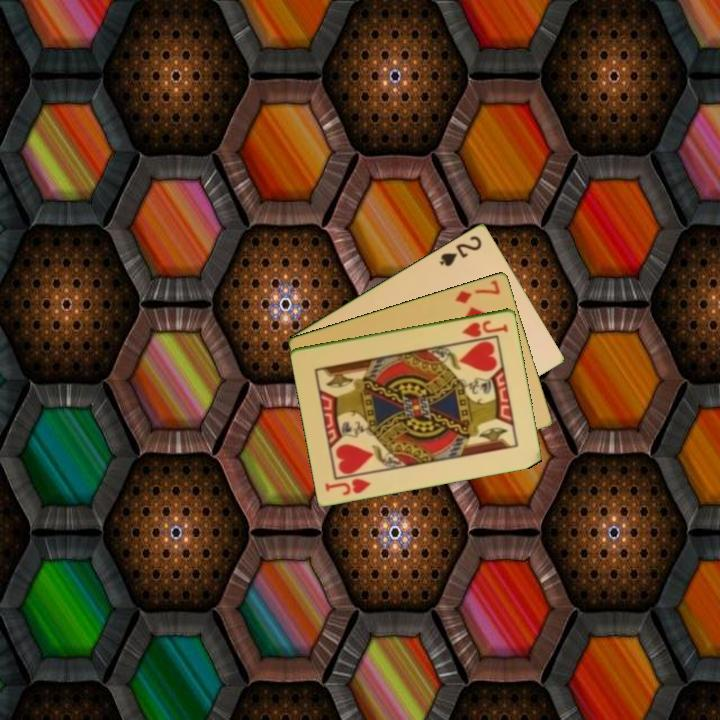2s: (436, 231, 485, 269)
7d: (452, 276, 503, 306)
Jh: (459, 316, 511, 340), (322, 474, 374, 498)
